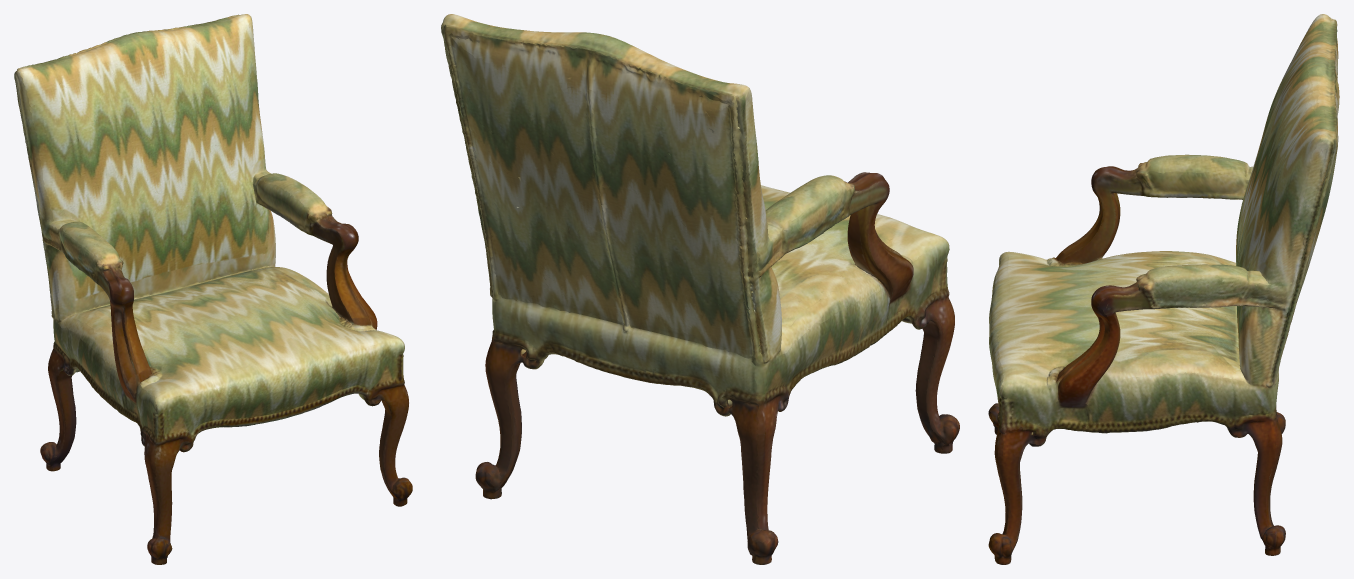
3 views of the same model, side by side, from view 1: azimuth 30°, elevation 25°; view 2: azimuth 150°, elevation 25°; view 3: azimuth 270°, elevation 25° (orthographic). The views are drawn at different scales.
Visible parts, largest first — view 1: geometry_0; view 2: geometry_0; view 3: geometry_0.
Boxes of the visible parts, x1,y1,x2,y2 form: geometry_0: (14,14,412,564); geometry_0: (441,14,959,564); geometry_0: (988,14,1339,564).
Bounding box in the file's own units: 0.7293 × 1.05 × 0.773.
1 material, 1 textured.
